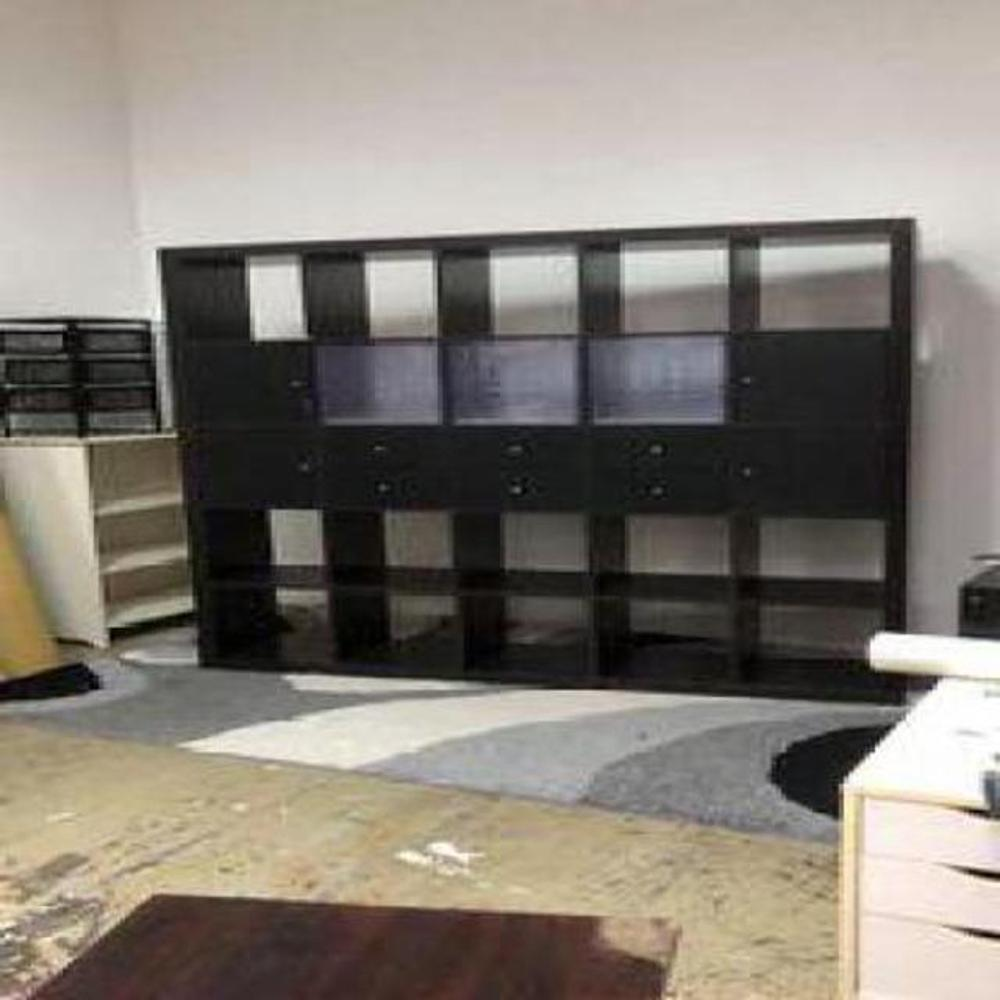lamp: (145, 212, 913, 706)
